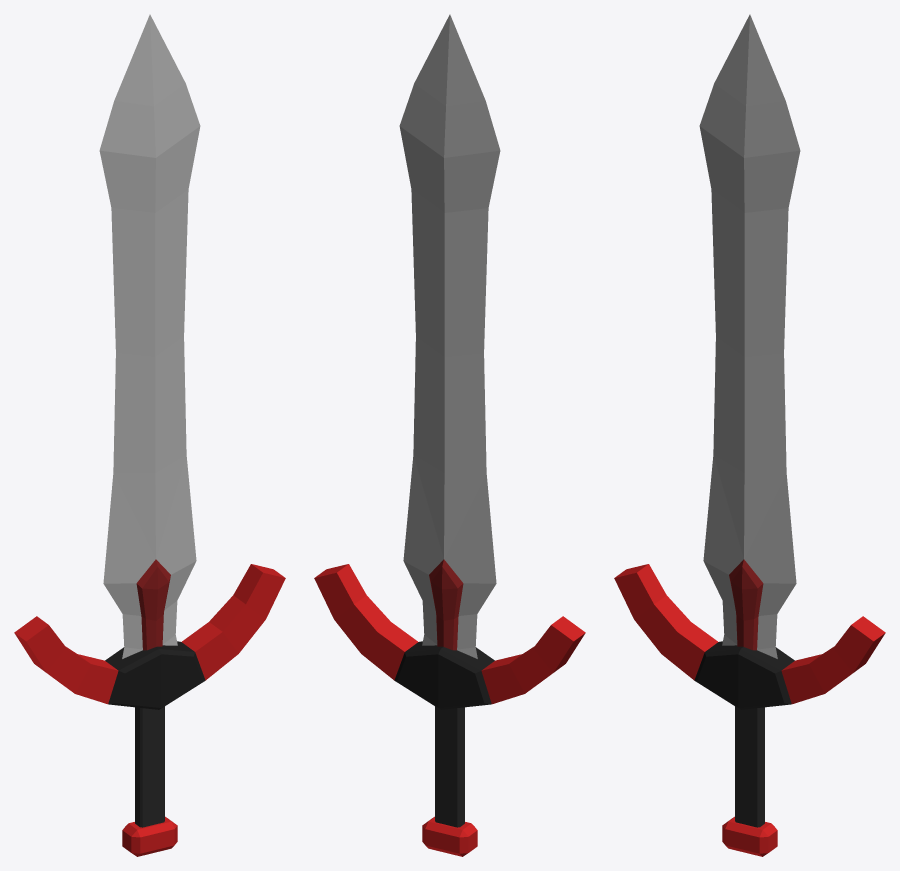
The picture shows the model from 3 angles, left to right: view 1: azimuth 30°, elevation 25°; view 2: azimuth 150°, elevation 25°; view 3: azimuth 330°, elevation 25°; orthographic projection.
Parts seen in each view (by area): view 1: Sword5; view 2: Sword5; view 3: Sword5.
Boxes of the visible parts, left/top/right/bottom form: Sword5: left=14, top=14, right=285, bottom=856; Sword5: left=314, top=14, right=585, bottom=856; Sword5: left=614, top=14, right=885, bottom=856.
Bounding box in the file's own units: 49.19 × 7.67 × 151.
Materials: 1 (1 with a texture image).
